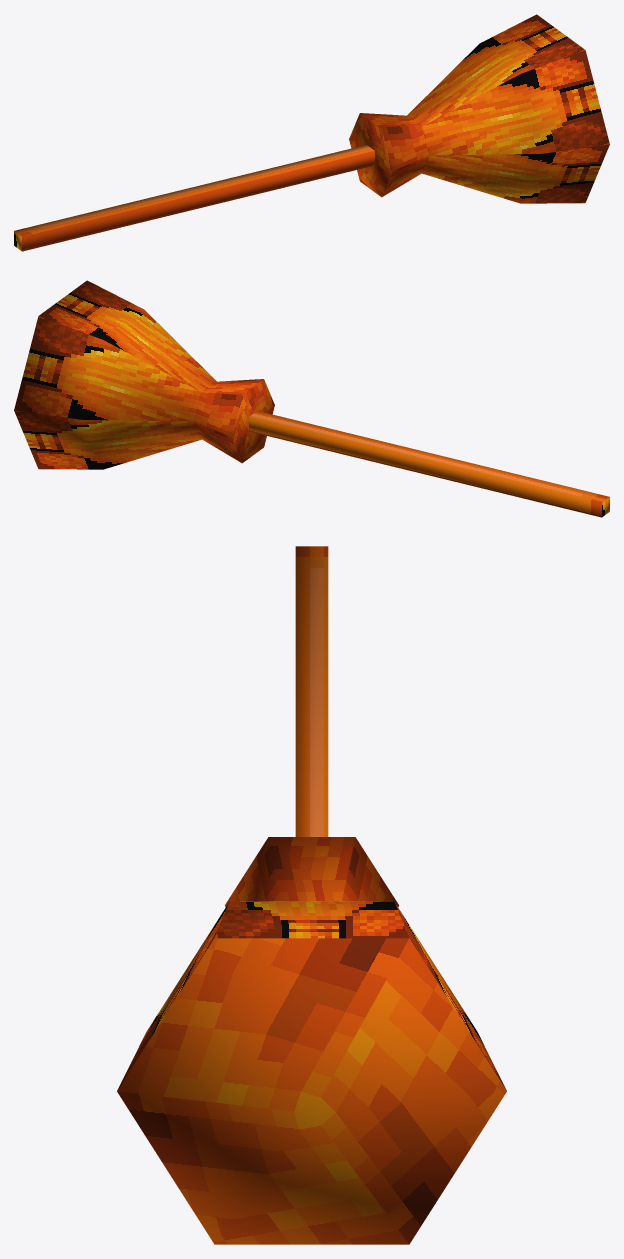
3 renders of one model, top to bottom at view 1: azimuth 30°, elevation 25°; view 2: azimuth 150°, elevation 25°; view 3: azimuth 270°, elevation 25°, orthographic. The views are drawn at different scales.
Visible parts, largest first — view 1: 1317sbim03_00_c; view 2: 1317sbim03_00_c; view 3: 1317sbim03_00_c.
Boxes of the visible parts, x1,y1,x2,y2 form: 1317sbim03_00_c: (14,14,609,251); 1317sbim03_00_c: (14,280,609,517); 1317sbim03_00_c: (117,546,506,1244).
Bounding box in the file's own units: 1.92 × 0.4958 × 0.5728.
1 material, 1 textured.
